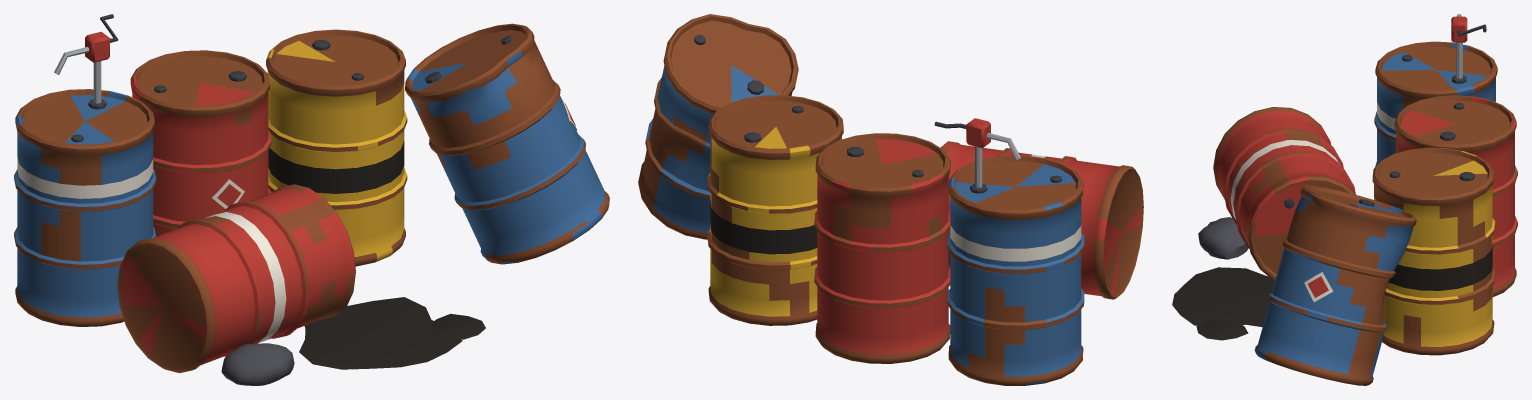
File: deco_salvage_drum_stack.fbx
3 views of the same model, side by side, from view 1: azimuth 30°, elevation 25°; view 2: azimuth 150°, elevation 25°; view 3: azimuth 270°, elevation 25° (orthographic). The views are drawn at different scales.
Visible parts, largest first — view 1: Salvage_DrumStack_DrumLying, Salvage_DrumStack_DrumTipped, Salvage_DrumStack_DrumBlue, Salvage_DrumStack_DrumHazard, Salvage_DrumStack_DrumRed, Salvage_DrumStack_Spill; view 2: Salvage_DrumStack_DrumBlue, Salvage_DrumStack_DrumRed, Salvage_DrumStack_DrumHazard, Salvage_DrumStack_DrumTipped, Salvage_DrumStack_DrumLying; view 3: Salvage_DrumStack_DrumTipped, Salvage_DrumStack_DrumHazard, Salvage_DrumStack_DrumLying, Salvage_DrumStack_DrumRed, Salvage_DrumStack_DrumBlue, Salvage_DrumStack_Spill.
Part boxes in pixels (<box>): Salvage_DrumStack_DrumLying: <box>117,184,355,385</box>; Salvage_DrumStack_DrumTipped: <box>405,23,609,264</box>; Salvage_DrumStack_DrumBlue: <box>14,14,156,326</box>; Salvage_DrumStack_DrumHazard: <box>266,29,407,266</box>; Salvage_DrumStack_DrumRed: <box>130,50,271,236</box>; Salvage_DrumStack_Spill: <box>299,297,485,369</box>; Salvage_DrumStack_DrumBlue: <box>934,118,1084,385</box>; Salvage_DrumStack_DrumRed: <box>814,133,950,363</box>; Salvage_DrumStack_DrumHazard: <box>707,95,843,325</box>; Salvage_DrumStack_DrumTipped: <box>638,14,798,239</box>; Salvage_DrumStack_DrumLying: <box>940,141,1143,299</box>; Salvage_DrumStack_DrumTipped: <box>1254,185,1416,385</box>; Salvage_DrumStack_DrumHazard: <box>1372,147,1495,355</box>; Salvage_DrumStack_DrumLying: <box>1198,107,1356,280</box>; Salvage_DrumStack_DrumRed: <box>1394,95,1517,296</box>; Salvage_DrumStack_DrumBlue: <box>1374,14,1497,166</box>; Salvage_DrumStack_Spill: <box>1172,267,1274,340</box>.
Size of the model in its own units: 323 by 152 by 218.
